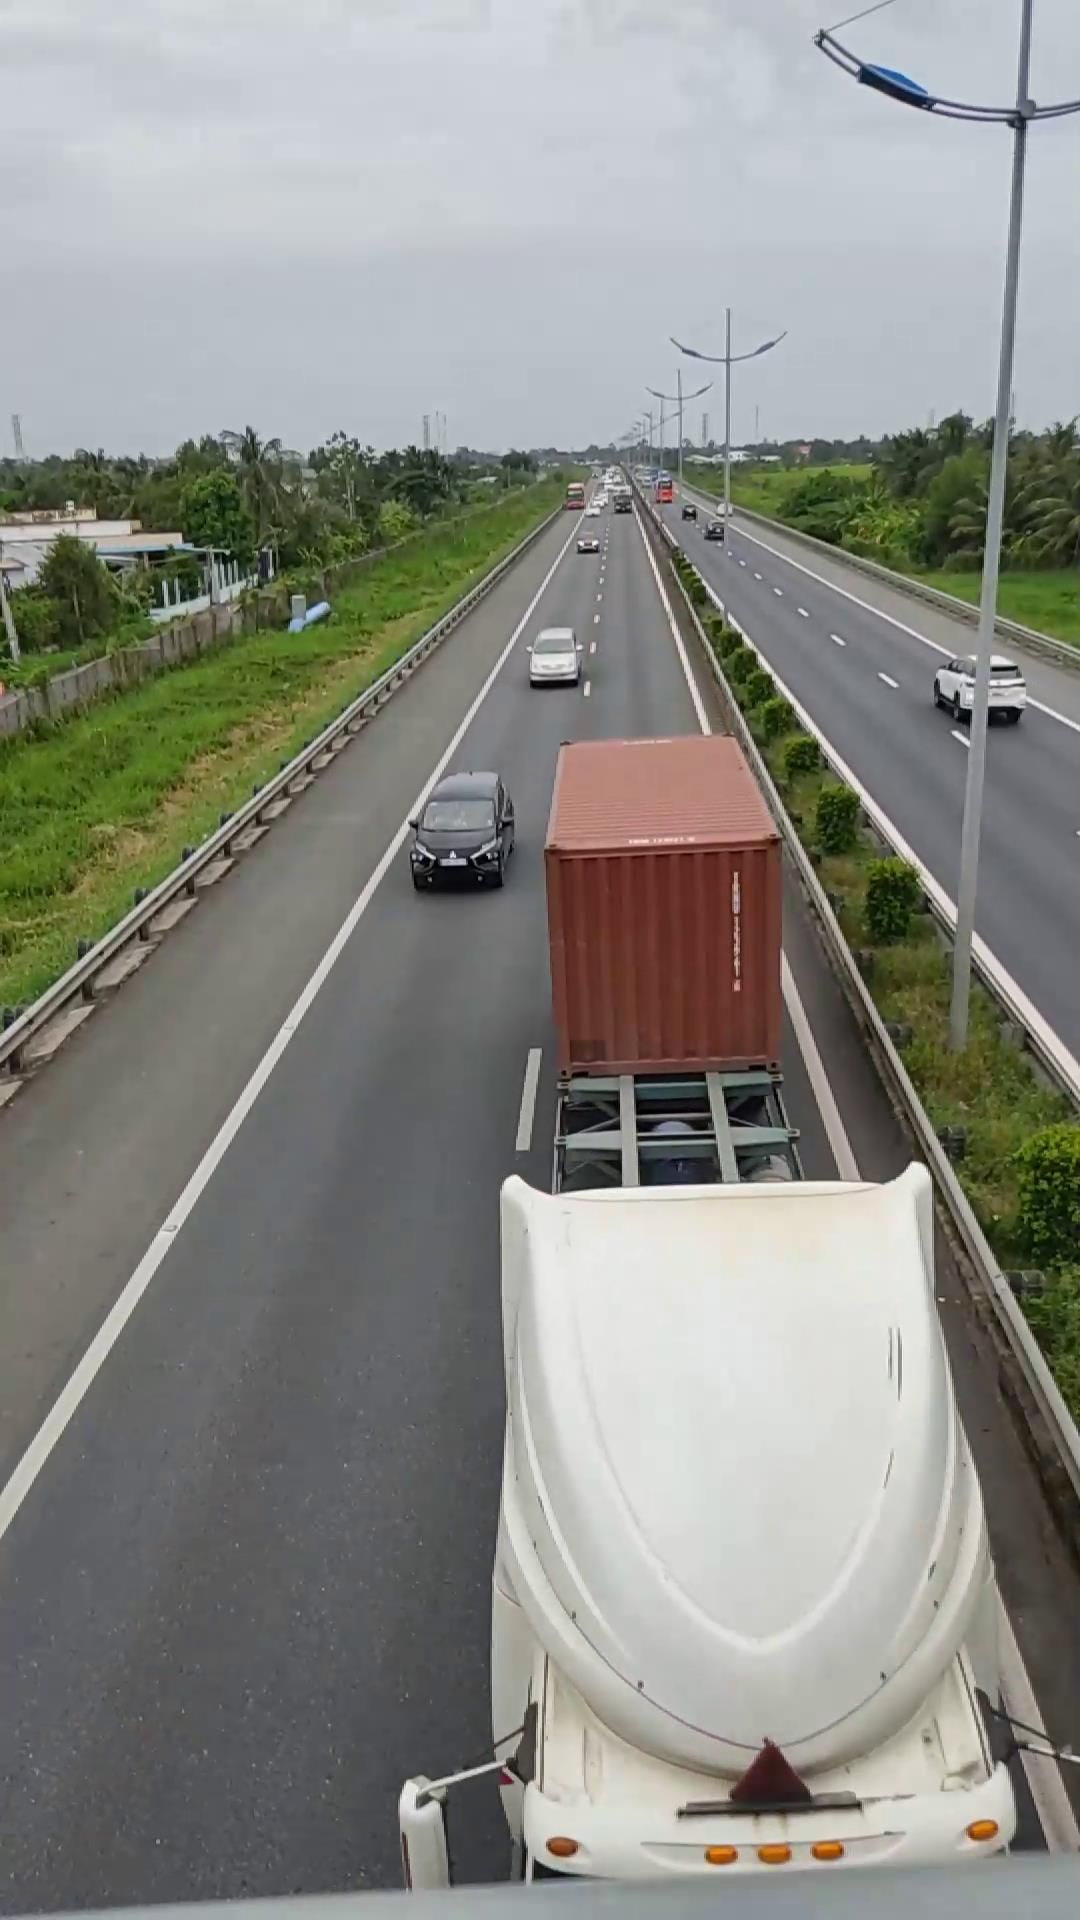car: (406, 769, 517, 889), (525, 625, 593, 686)
container: (483, 726, 1020, 1873)
